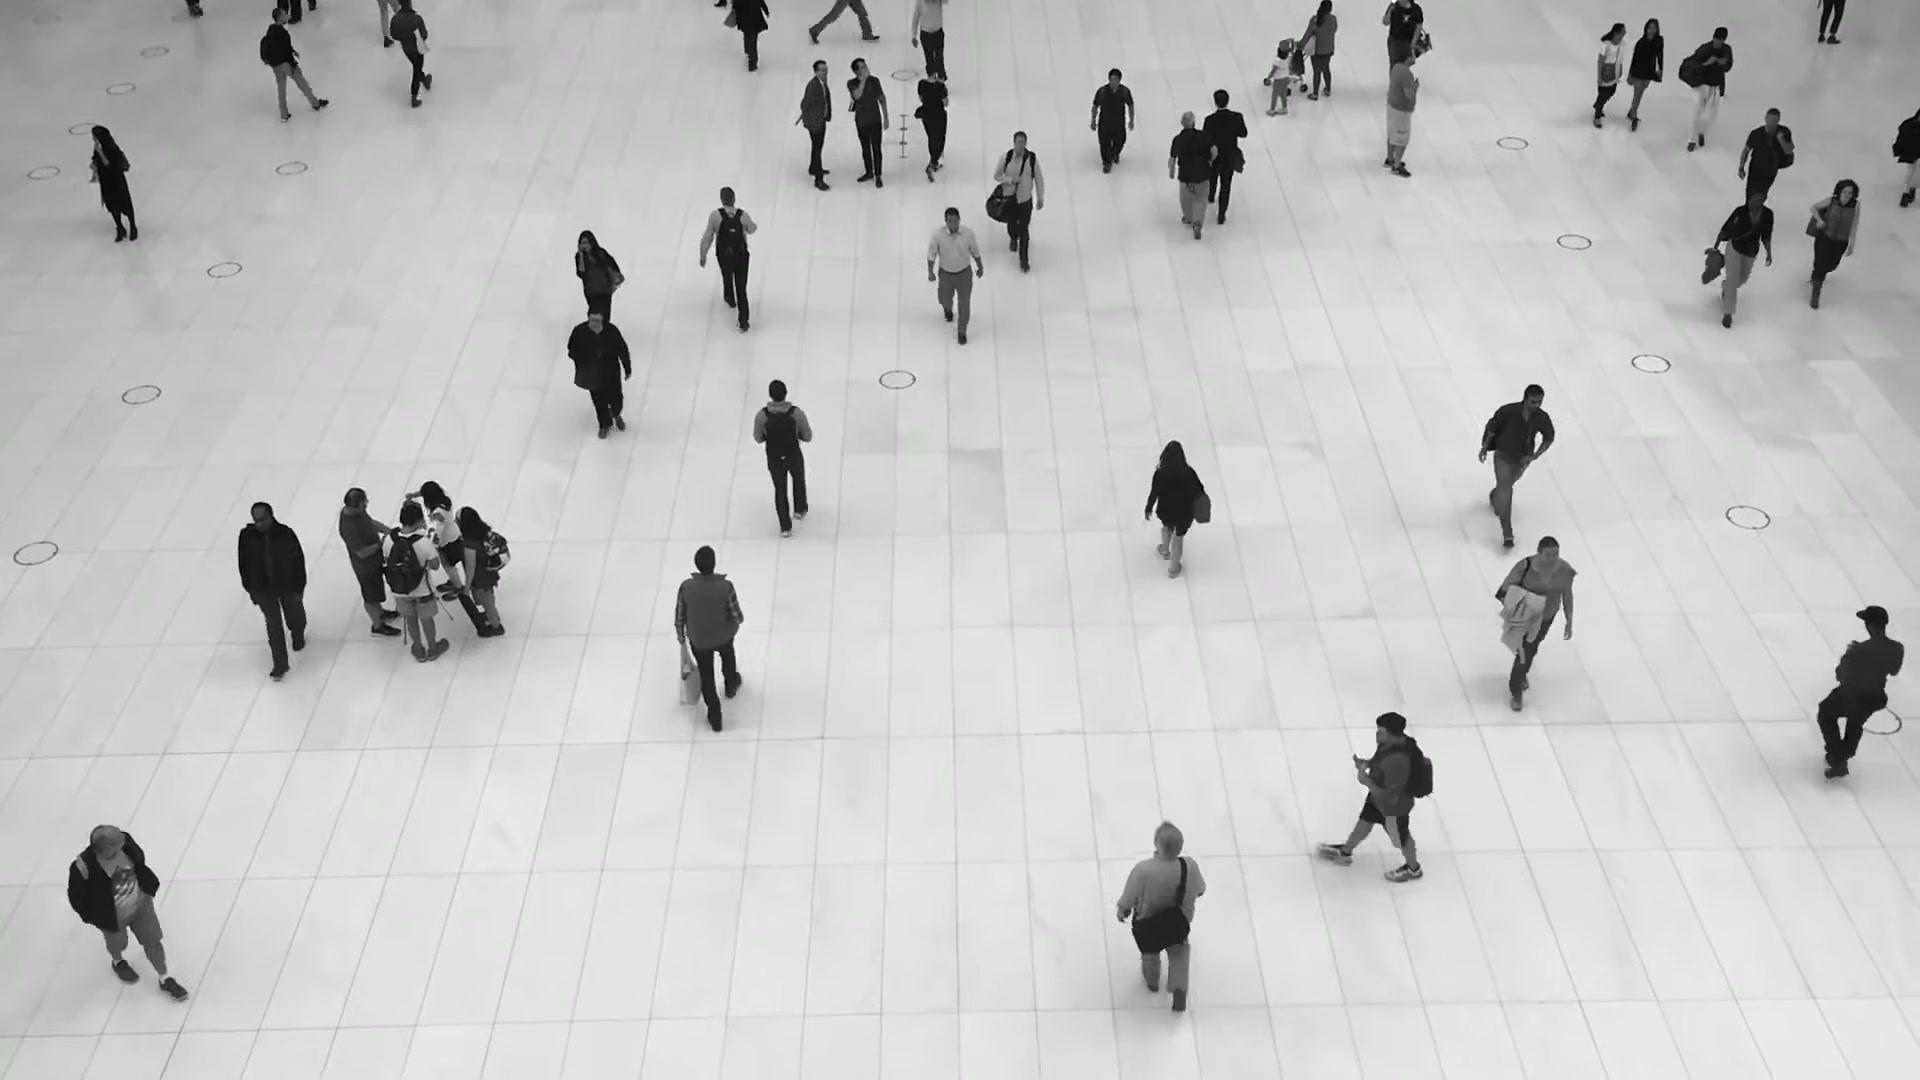person: (67, 824, 187, 999), (1320, 711, 1434, 884), (1115, 821, 1205, 1021), (1816, 604, 1905, 784), (1495, 536, 1576, 708), (674, 544, 744, 729), (236, 501, 307, 679), (1479, 383, 1555, 547), (380, 504, 448, 664), (338, 487, 401, 635), (1143, 439, 1211, 577), (754, 379, 812, 536), (567, 306, 631, 443), (1713, 188, 1774, 330), (700, 185, 757, 329), (926, 207, 984, 345), (1803, 179, 1861, 311), (454, 505, 510, 638), (260, 6, 325, 122), (993, 130, 1044, 269), (1679, 26, 1734, 154), (1168, 111, 1217, 241), (1202, 87, 1247, 223), (88, 124, 137, 243), (1737, 105, 1794, 205), (846, 57, 889, 188), (420, 481, 461, 601), (1382, 47, 1420, 177), (1089, 69, 1135, 175), (796, 59, 832, 191), (1624, 17, 1664, 131), (574, 229, 623, 321), (390, 0, 431, 106), (915, 62, 949, 182), (1592, 22, 1627, 130), (1299, 0, 1337, 100), (910, 0, 948, 80), (1383, 0, 1423, 64), (1263, 45, 1291, 116)
